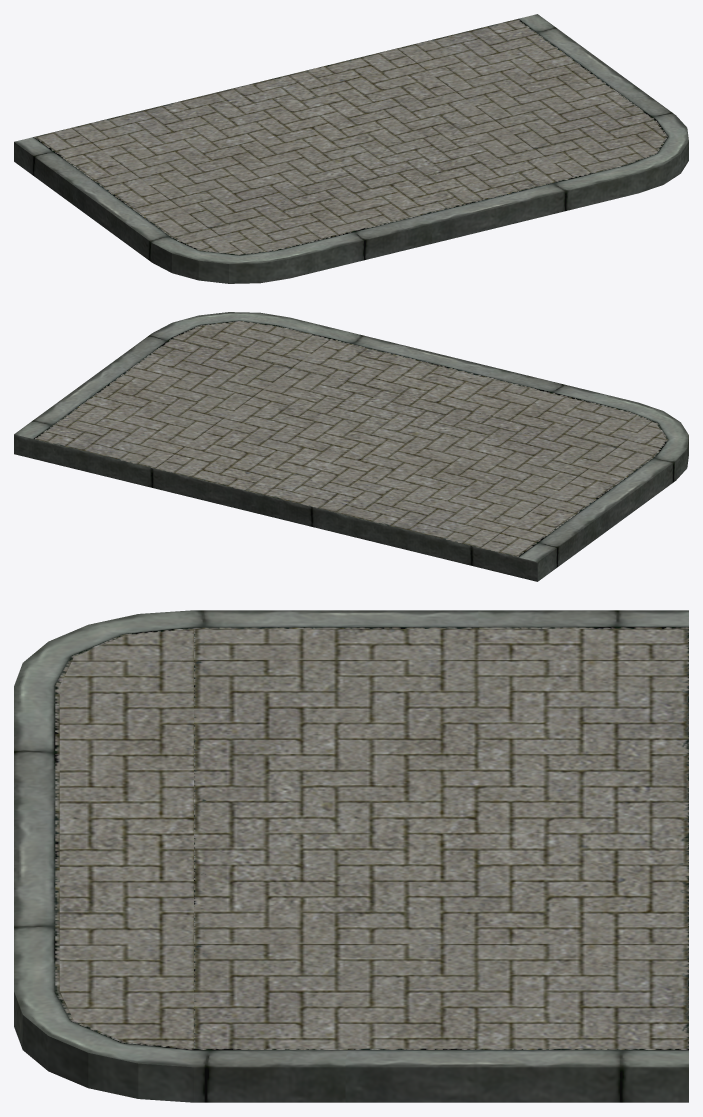
File: VP_park_pavement_block.fbx
3 views of the same model, one above another, from view 1: azimuth 30°, elevation 25°; view 2: azimuth 150°, elevation 25°; view 3: azimuth 270°, elevation 25° (orthographic). The views are drawn at different scales.
Visible parts, largest first — view 1: Park_pavement_block; view 2: Park_pavement_block; view 3: Park_pavement_block.
Part boxes in pixels (x1,y1,x2,y2): Park_pavement_block: [14, 14, 688, 283]; Park_pavement_block: [14, 312, 688, 581]; Park_pavement_block: [14, 610, 688, 1102].
Size of the model in its own units: 601 by 21.71 by 375.
Materials: 1 (1 with a texture image).
